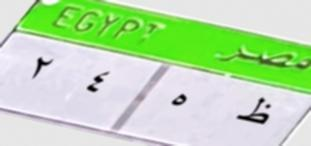2: (27, 50, 57, 86)
4: (86, 64, 110, 100)
Thaa: (235, 93, 273, 132)
haa: (164, 83, 190, 117)
